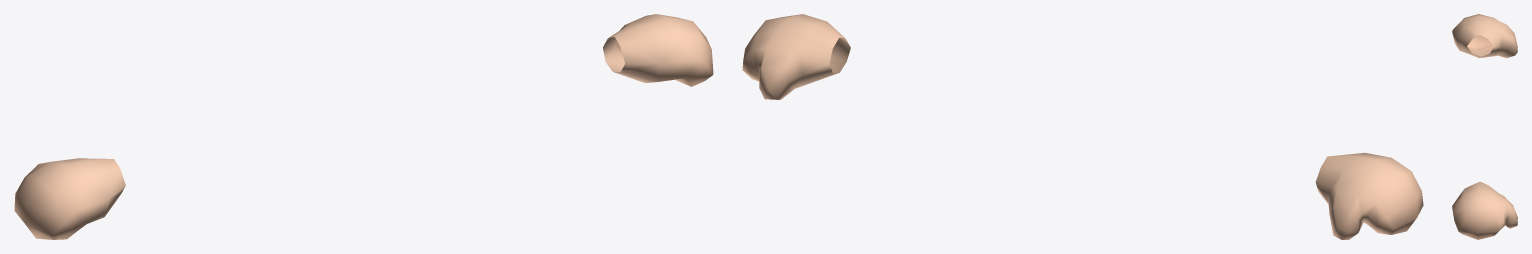
Rendered from Body_Hand.fbx.
3 renders of one model, left to right at view 1: azimuth 30°, elevation 25°; view 2: azimuth 150°, elevation 25°; view 3: azimuth 270°, elevation 25°, orthographic. The views are drawn at different scales.
Parts seen in each view (by area): view 1: Body_Hand; view 2: Body_Hand; view 3: Body_Hand.
Part boxes in pixels (box(x1,y1,x2,y2)): Body_Hand: box(14, 14, 713, 239); Body_Hand: box(742, 14, 1423, 239); Body_Hand: box(1452, 14, 1517, 239).
Size of the model in its own units: 131 by 12.06 by 18.22.
